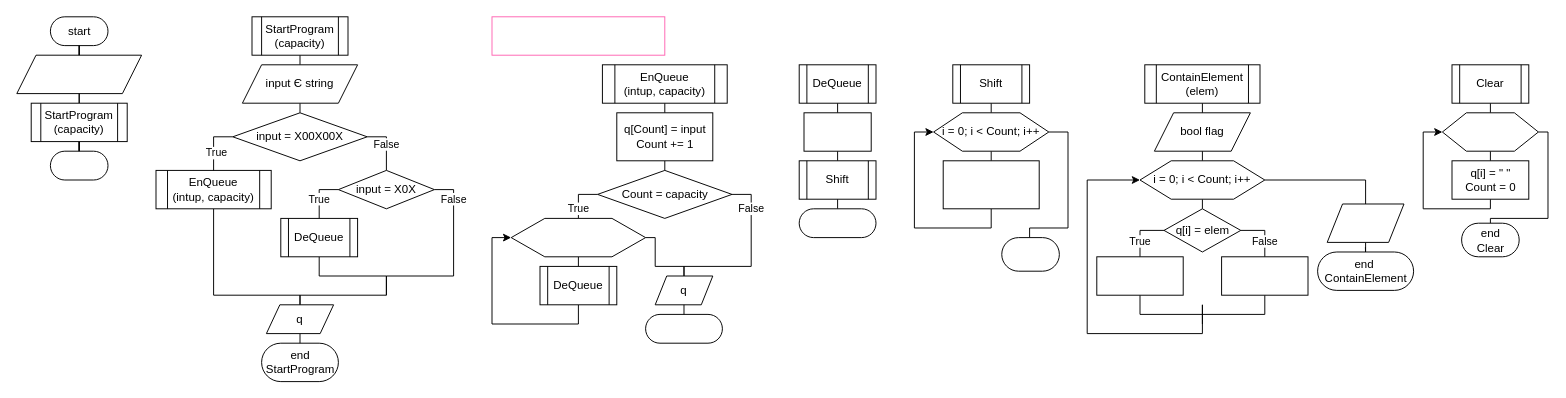
This 1566x398 diagram has some shape labels left out. The shapes that lost their labels are listed below. From the top down, each one's box as (x1, y1, x2, y2) in pixels, then its label:
(491, 16, 665, 55): class Queue - черга Count - нинішній елемент
(16, 54, 142, 94): capacity Є N Queue q[capacity]
(803, 112, 871, 151): Count -= 1
(1441, 112, 1538, 151): i = 0; i < 0; i++
(49, 150, 108, 180): end
(942, 160, 1039, 209): q[i] = q[i+1]
(510, 217, 646, 257): i = 0; i < capacity; i++
(798, 208, 876, 238): end DeQueue
(1326, 203, 1404, 242): flag
(1001, 237, 1059, 271): end Shift
(1096, 256, 1183, 295): flag = true
(1221, 256, 1308, 295): flag = false
(645, 313, 722, 343): end EnQueue
